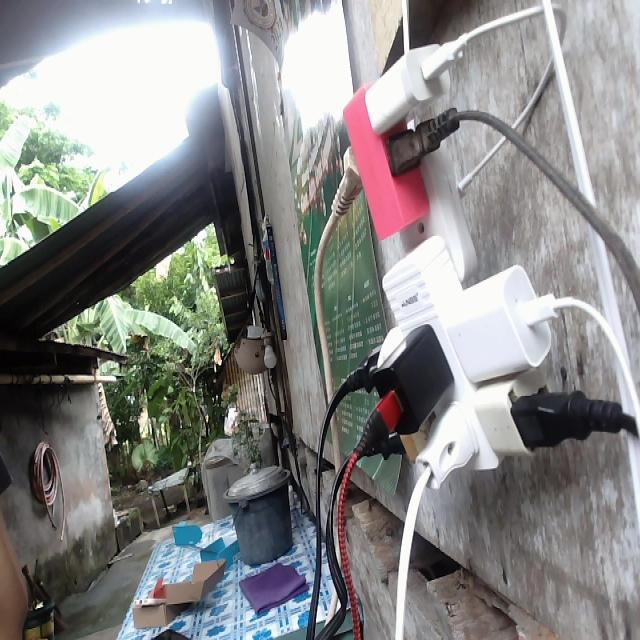-: (331, 24, 637, 489)
